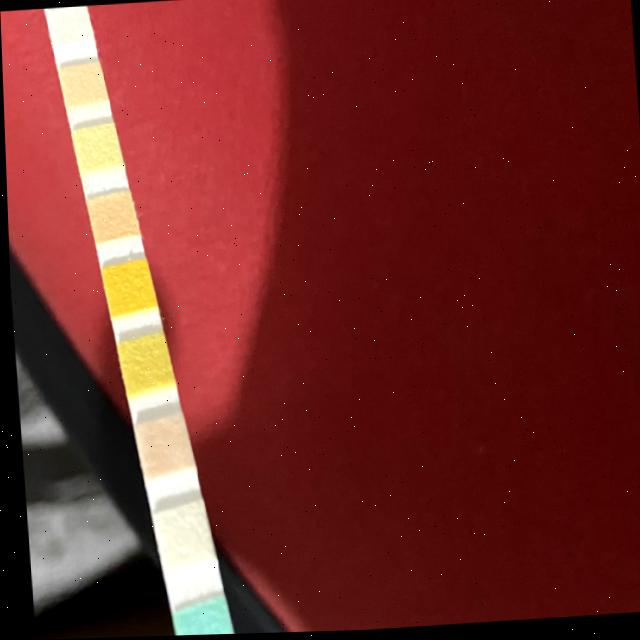Bilirubin: (155, 510, 203, 562)
Blood: (104, 268, 147, 310)
Glucose: (176, 607, 222, 636)
Ketone: (136, 422, 183, 471)
Nitrite: (50, 10, 87, 42)
Protein: (75, 128, 115, 166)
SpGravity: (123, 343, 165, 385)
Urobilinogen: (60, 66, 101, 102)
pH: (90, 197, 130, 238)
